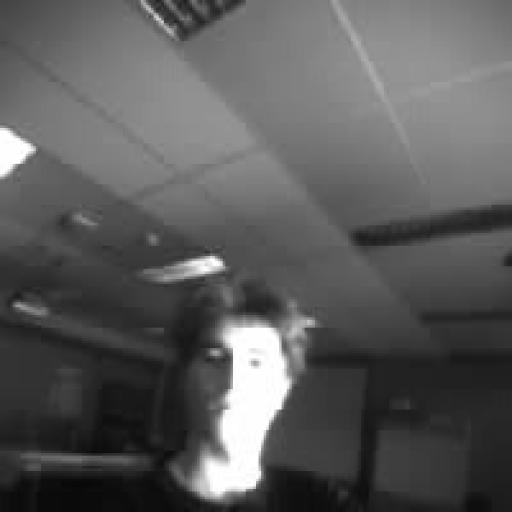human: (67, 274, 358, 511)
